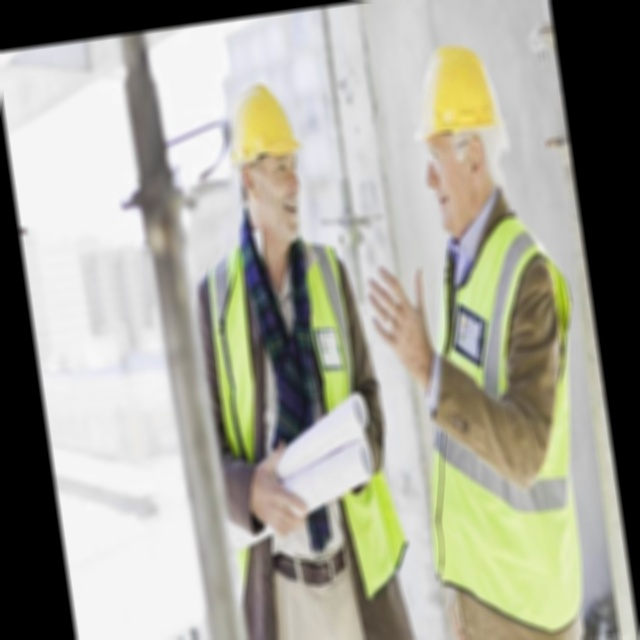Con_Casco: (226, 75, 305, 233)
Con_Chaleco: (197, 236, 410, 611), (403, 224, 592, 640)
